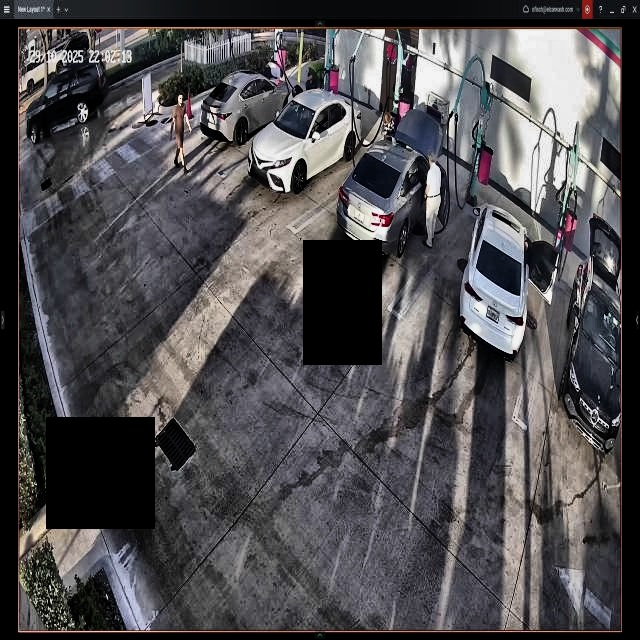Car: (337, 112, 447, 254), (249, 91, 362, 184), (460, 205, 530, 352), (201, 69, 296, 142)
